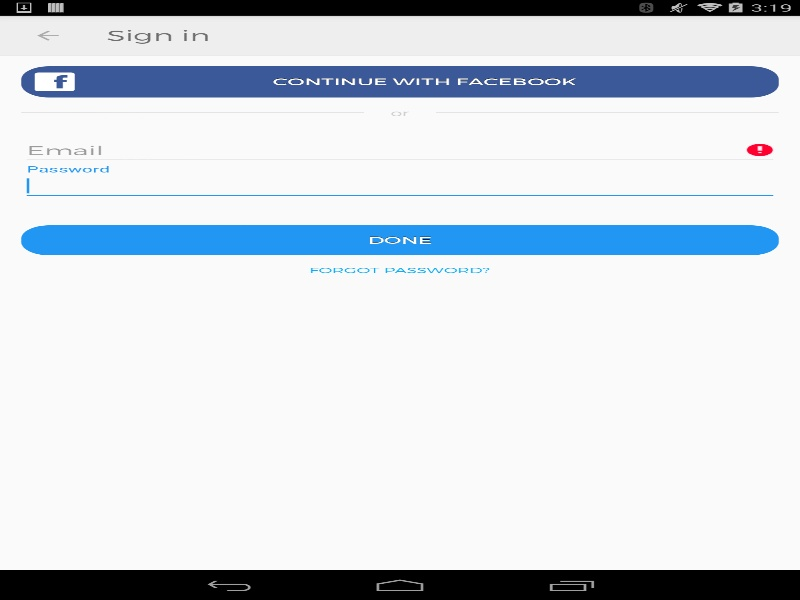Button: (21, 66, 778, 97), (21, 225, 778, 255), (293, 255, 505, 285), (10, 15, 85, 55)
Input: (21, 136, 778, 164), (21, 172, 778, 200)
